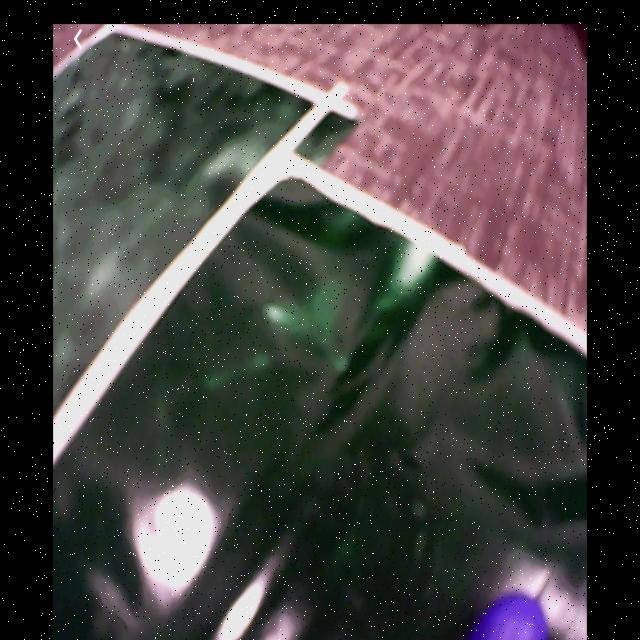ball: (474, 593, 549, 640)
